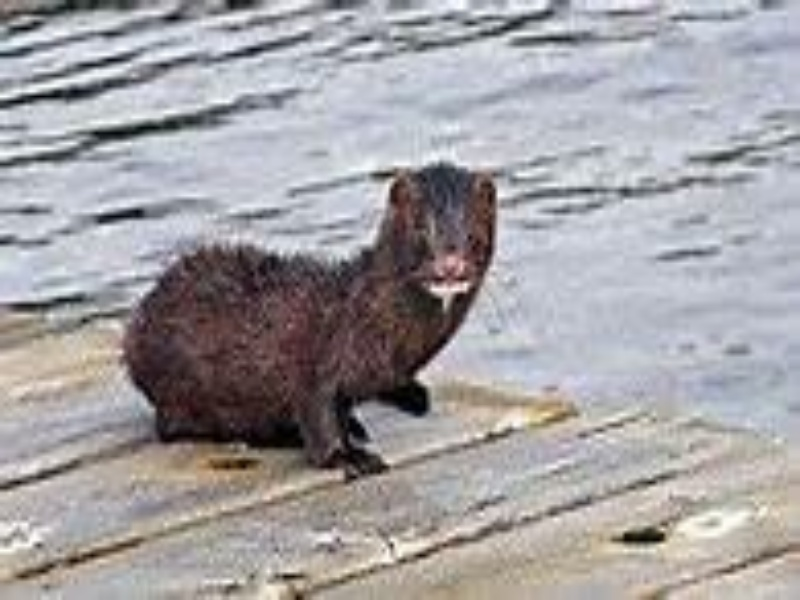minkish: (122, 156, 503, 483)
